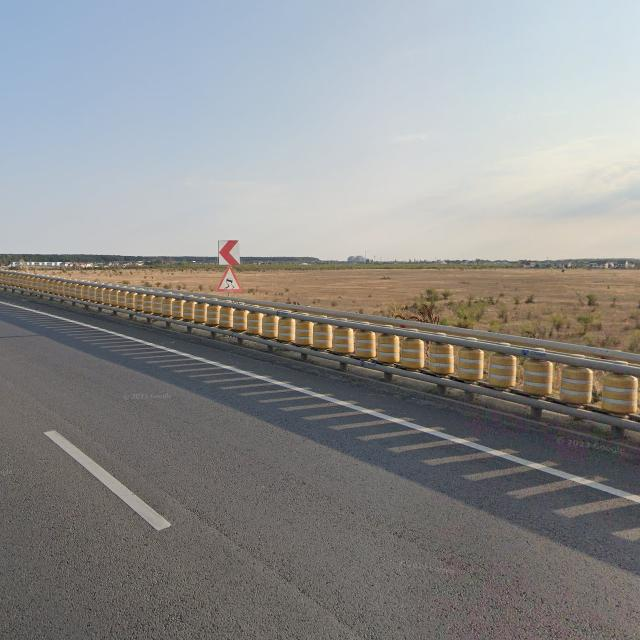warn_slippery_road: (216, 265, 243, 293)
